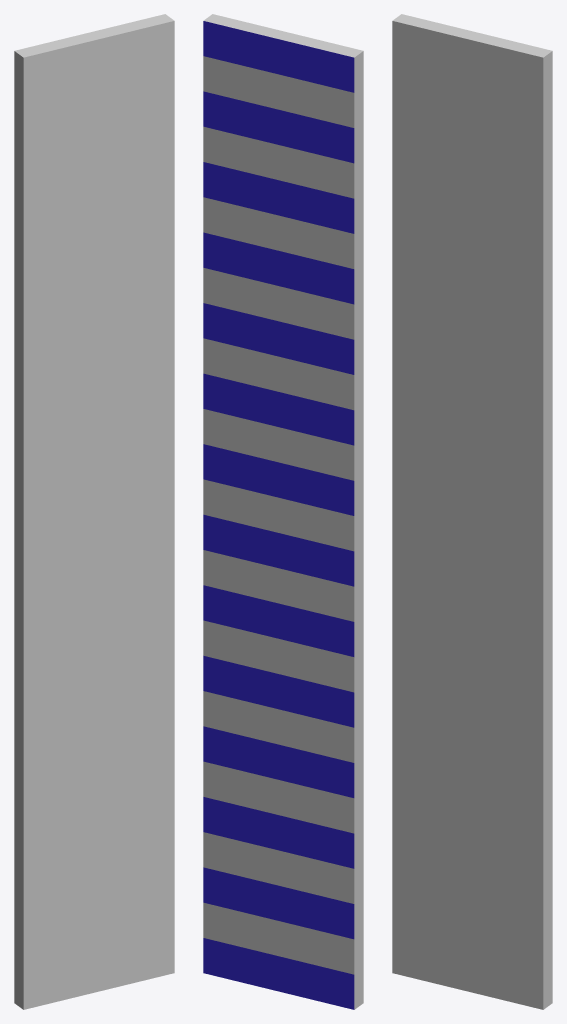
Rendered from road_stright.fbx.
3 views of the same model, side by side, from view 1: azimuth 30°, elevation 25°; view 2: azimuth 150°, elevation 25°; view 3: azimuth 330°, elevation 25° (orthographic).
Parts seen in each view (by area): view 1: Cube; view 2: Cube; view 3: Cube.
Part boxes in pixels (left/top/right/bottom): Cube: left=14, top=14, right=174, bottom=1009; Cube: left=203, top=14, right=363, bottom=1009; Cube: left=392, top=14, right=552, bottom=1009.
Size of the model in its own units: 200 by 1205 by 21.34.
